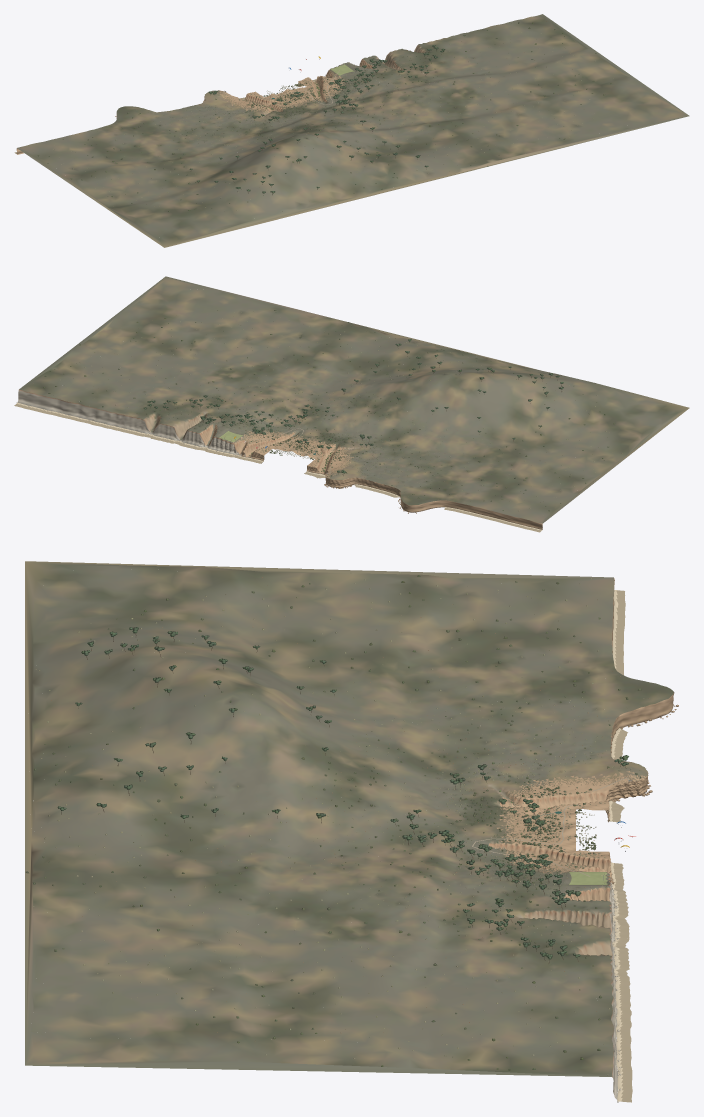
The model's file is hinterland.glb.
The picture shows the model from 3 angles, top to bottom: view 1: azimuth 30°, elevation 25°; view 2: azimuth 150°, elevation 25°; view 3: azimuth 270°, elevation 25°; orthographic projection. The views are drawn at different scales.
Visible parts, largest first — view 1: hinterland_ground_24, hinterland_ground_27, hinterland_ground_29, hinterland_ground_25, hinterland_ground_30, hinterland_ground_28, hinterland_ground_37, hinterland_ground_35, hinterland_ground_34, hinterland_flora_10_09, hinterland_ground_06, hinterland_ground_17 (+17 smaller); view 2: hinterland_ground_24, hinterland_ground_25, hinterland_ground_29, hinterland_ground_30, hinterland_ground_28, hinterland_ground_27, hinterland_ground_37, hinterland_ground_09, hinterland_ground_05, hinterland_ground_13, hinterland_ground_17, hinterland_ground_18 (+22 smaller); view 3: hinterland_ground_27, hinterland_ground_28, hinterland_ground_29, hinterland_ground_25, hinterland_ground_30, hinterland_ground_24, hinterland_ground_37, hinterland_ground_06, hinterland_ground_35, hinterland_ground_05, hinterland_ground_13, hinterland_ground_09 (+24 smaller).
Boxes of the visible parts, <box> form: hinterland_ground_24: <box>97,164,289,241</box>; hinterland_ground_27: <box>219,126,411,209</box>; hinterland_ground_29: <box>463,70,654,148</box>; hinterland_ground_25: <box>30,118,218,194</box>; hinterland_ground_30: <box>393,22,583,101</box>; hinterland_ground_28: <box>342,101,532,181</box>; hinterland_ground_37: <box>516,14,689,119</box>; hinterland_ground_35: <box>208,116,686,236</box>; hinterland_ground_34: <box>164,175,447,247</box>; hinterland_flora_10_09: <box>276,58,449,125</box>; hinterland_ground_06: <box>173,99,249,131</box>; hinterland_ground_17: <box>348,78,424,111</box>; hinterland_ground_24: <box>488,375,675,464</box>; hinterland_ground_25: <box>417,433,608,519</box>; hinterland_ground_29: <box>121,286,310,370</box>; hinterland_ground_30: <box>50,341,243,429</box>; hinterland_ground_28: <box>244,315,434,395</box>; hinterland_ground_27: <box>364,346,554,432</box>; hinterland_ground_37: <box>19,276,190,395</box>; hinterland_ground_09: <box>322,410,398,450</box>; hinterland_ground_05: <box>371,424,447,462</box>; hinterland_ground_13: <box>274,401,349,438</box>; hinterland_ground_17: <box>226,386,301,425</box>; hinterland_ground_18: <box>197,410,274,452</box>; hinterland_ground_27: <box>34,652,324,799</box>; hinterland_ground_28: <box>33,788,325,924</box>; hinterland_ground_29: <box>32,914,330,1044</box>; hinterland_ground_25: <box>313,574,612,703</box>; hinterland_ground_30: <box>322,921,612,1048</box>; hinterland_ground_24: <box>33,565,330,690</box>; hinterland_ground_37: <box>26,1032,613,1076</box>; hinterland_ground_06: <box>490,725,606,774</box>; hinterland_ground_35: <box>25,569,49,1063</box>; hinterland_ground_05: <box>378,717,493,773</box>; hinterland_ground_13: <box>378,804,493,865</box>; hinterland_ground_09: <box>377,759,493,820</box>.
Size of the model in its own units: 1383 by 110 by 745.
